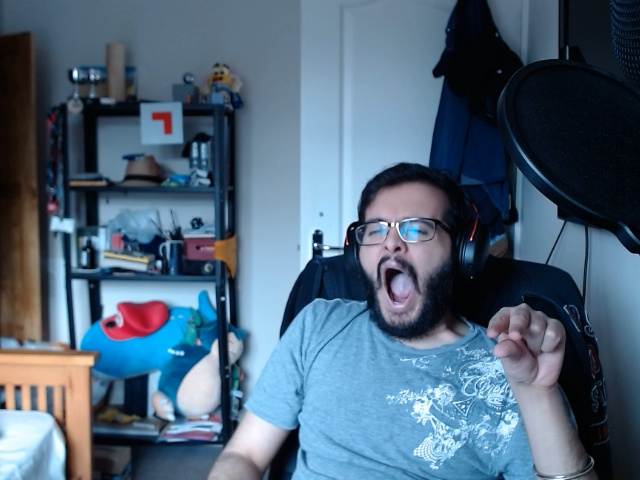No: (481, 290, 570, 394)
